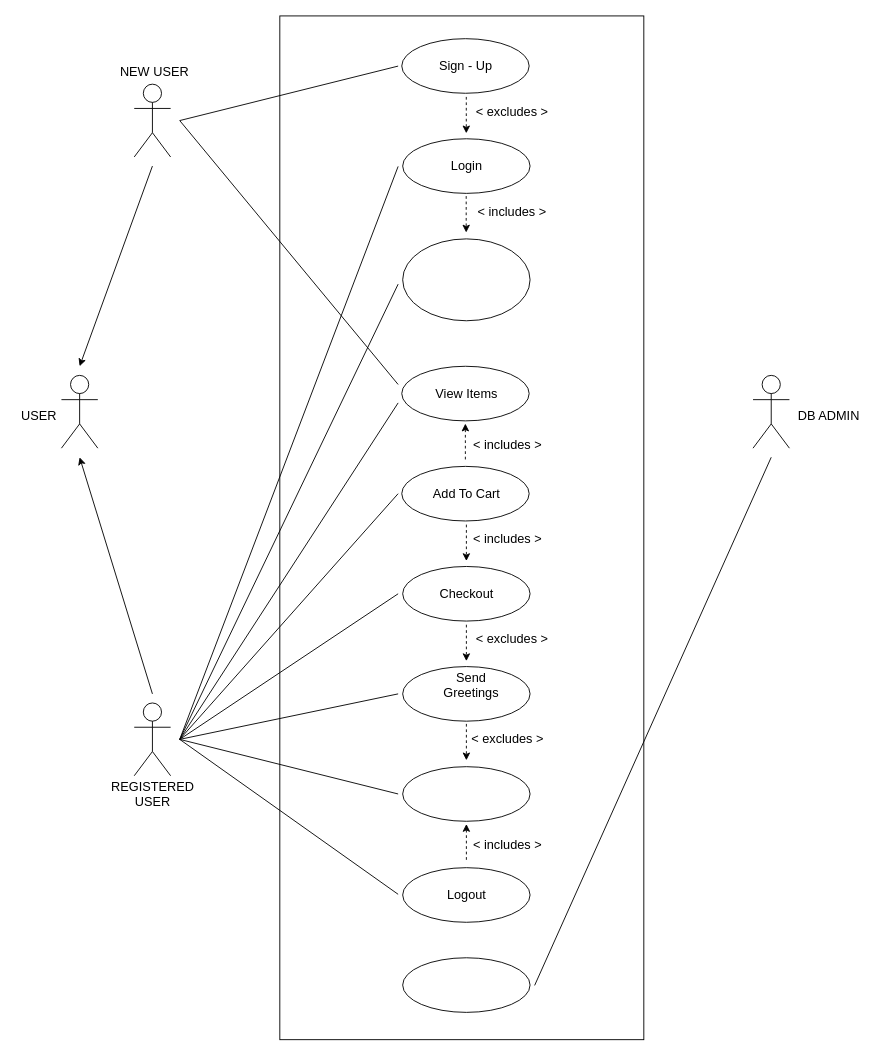
Some shapes in this 880 by 1056 pixel diagram are drawn without their labels. The shapes that lost their labels are listed below. From the top down, each one's box as (x1, y1, x2, y2) in pixels, then its label:
(402, 238, 530, 321): Change Password Account Settings
(402, 766, 530, 821): Plan An Event
(402, 957, 530, 1012): Manage Users
